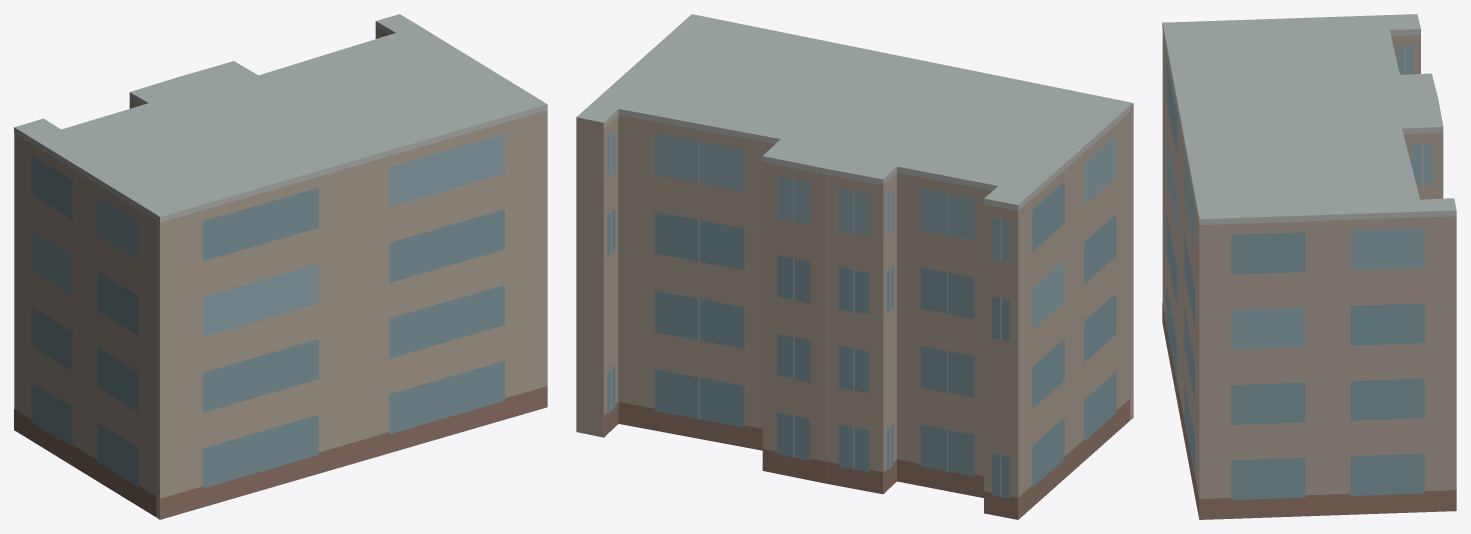
The model's file is survey-upis-32757063.glb.
3 renders of one model, left to right at view 1: azimuth 30°, elevation 25°; view 2: azimuth 150°, elevation 25°; view 3: azimuth 270°, elevation 25°, orthographic. The views are drawn at different scales.
Visible parts, largest first — view 1: survey-upis-32757063.tmp; view 2: survey-upis-32757063.tmp; view 3: survey-upis-32757063.tmp.
Boxes of the visible parts, x1,y1,x2,y2 form: survey-upis-32757063.tmp: (14,14,547,519); survey-upis-32757063.tmp: (576,14,1133,519); survey-upis-32757063.tmp: (1162,14,1456,519).
Bounding box in the file's own units: 18.61 × 12.7 × 11.26.
